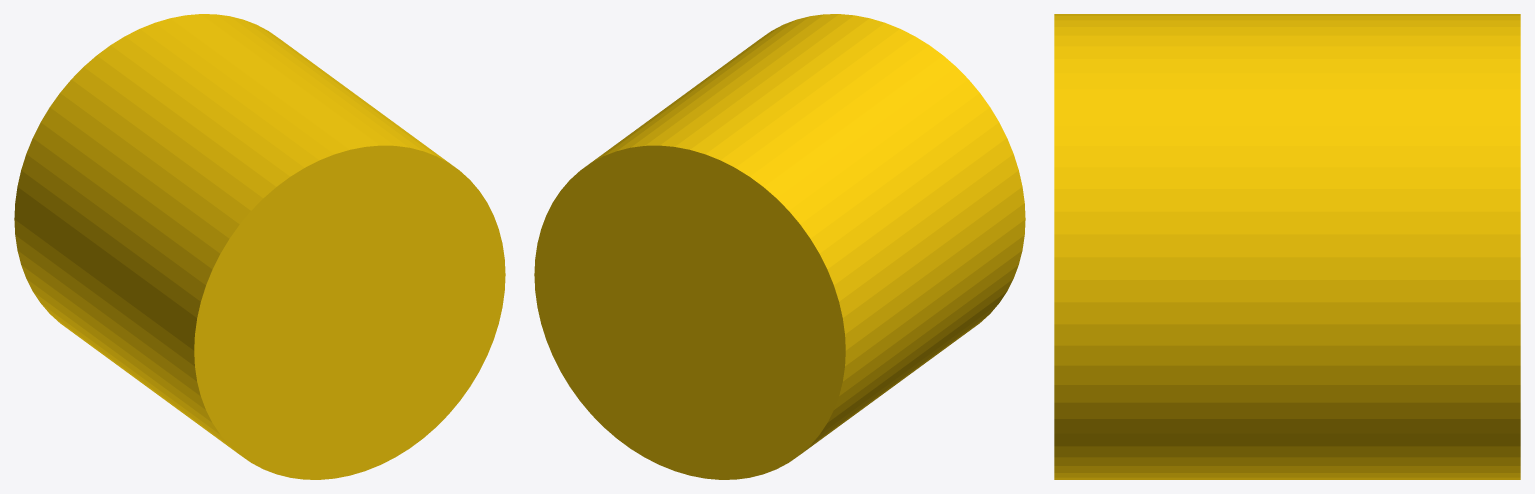
The model's file is block_yellow_cylinder.obj.
The picture shows the model from 3 angles, left to right: view 1: azimuth 30°, elevation 25°; view 2: azimuth 150°, elevation 25°; view 3: azimuth 270°, elevation 25°; orthographic projection. The views are drawn at different scales.
Parts seen in each view (by area): view 1: block_yellow_cylinder; view 2: block_yellow_cylinder; view 3: block_yellow_cylinder.
Part boxes in pixels (x1,y1,x2,y2): block_yellow_cylinder: [14, 14, 505, 479]; block_yellow_cylinder: [534, 14, 1025, 479]; block_yellow_cylinder: [1054, 14, 1520, 479].
Bounding box in the file's own units: 0.04 × 0.04 × 0.04.
